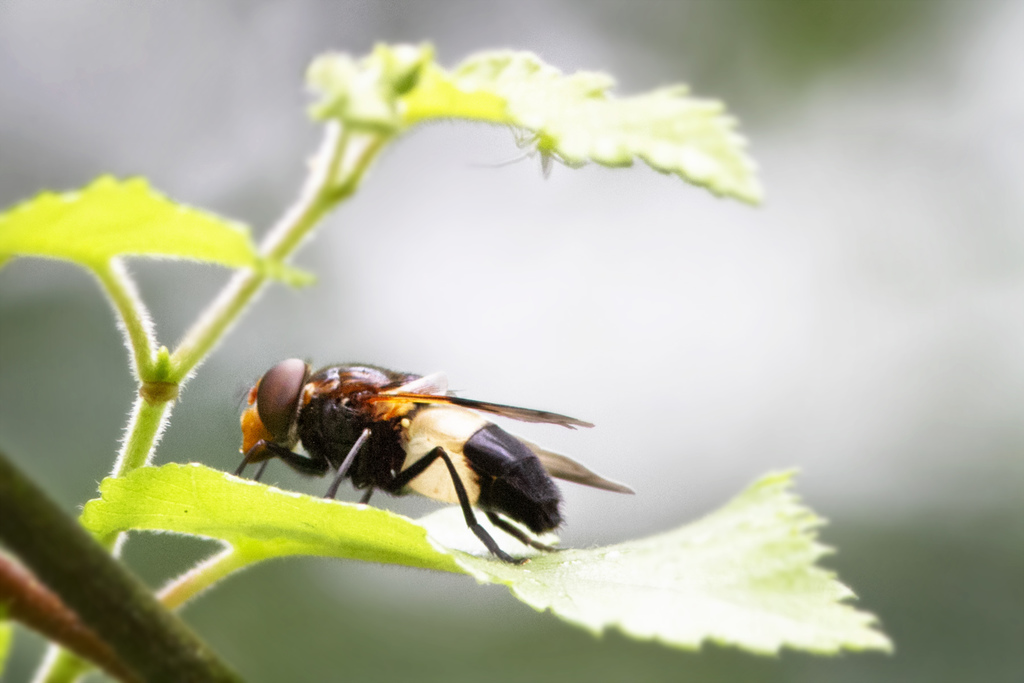person: (235, 358, 637, 563)
